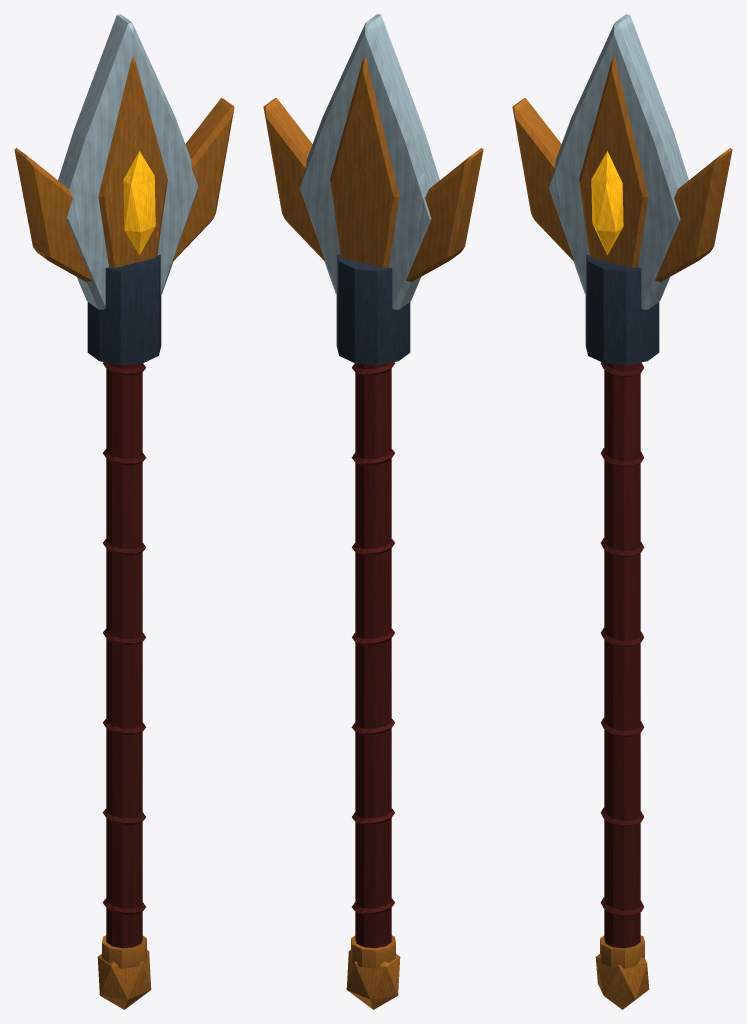
Rendered from spear-t3.glb.
The picture shows the model from 3 angles, left to right: view 1: azimuth 30°, elevation 25°; view 2: azimuth 150°, elevation 25°; view 3: azimuth 330°, elevation 25°; orthographic projection.
Parts seen in each view (by area): view 1: Leather grip, Spear cutting edge, Spear ridge, Spear socket, Storm fork, Storm fork.001, Storm core, Faceted pommel, Grip ferrule; view 2: Leather grip, Spear cutting edge, Spear ridge, Spear socket, Storm fork, Storm fork.001, Faceted pommel, Grip ferrule; view 3: Leather grip, Spear cutting edge, Spear ridge, Spear socket, Storm fork.001, Storm fork, Storm core, Faceted pommel, Grip ferrule.
Boxes of the visible parts, x1,y1,x2,y2 form: Leather grip: (106,362,142,948); Spear cutting edge: (58,14,197,309); Spear ridge: (98,56,167,267); Spear socket: (87,254,161,365); Storm fork: (14,148,91,282); Storm fork.001: (173,98,234,260); Storm core: (123,151,155,255); Faceted pommel: (97,950,151,1009); Grip ferrule: (102,935,146,968); Leather grip: (355,362,391,948); Spear cutting edge: (300,14,439,309); Spear ridge: (330,56,399,267); Spear socket: (336,254,410,365); Storm fork: (406,148,483,282); Storm fork.001: (263,98,324,260); Faceted pommel: (346,950,400,1009); Grip ferrule: (351,935,395,968); Leather grip: (604,362,640,948); Spear cutting edge: (549,14,688,309); Spear ridge: (579,56,648,267); Spear socket: (585,254,659,365); Storm fork.001: (655,148,732,282); Storm fork: (512,98,573,260); Storm core: (591,151,623,255); Faceted pommel: (595,954,649,1009); Grip ferrule: (600,935,644,968).
Bounding box in the file's own units: 0.3529 × 1.6 × 0.117.
Materials: 1 (1 with a texture image).
